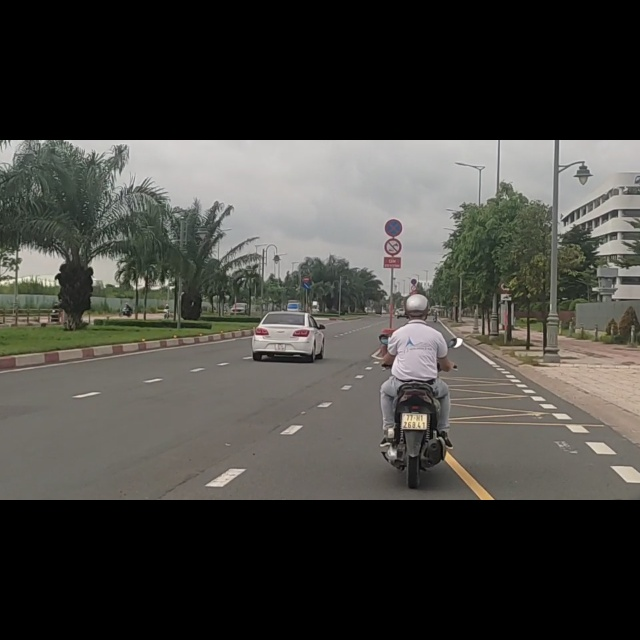bien_cam: (383, 172, 403, 207), (384, 141, 403, 172)
